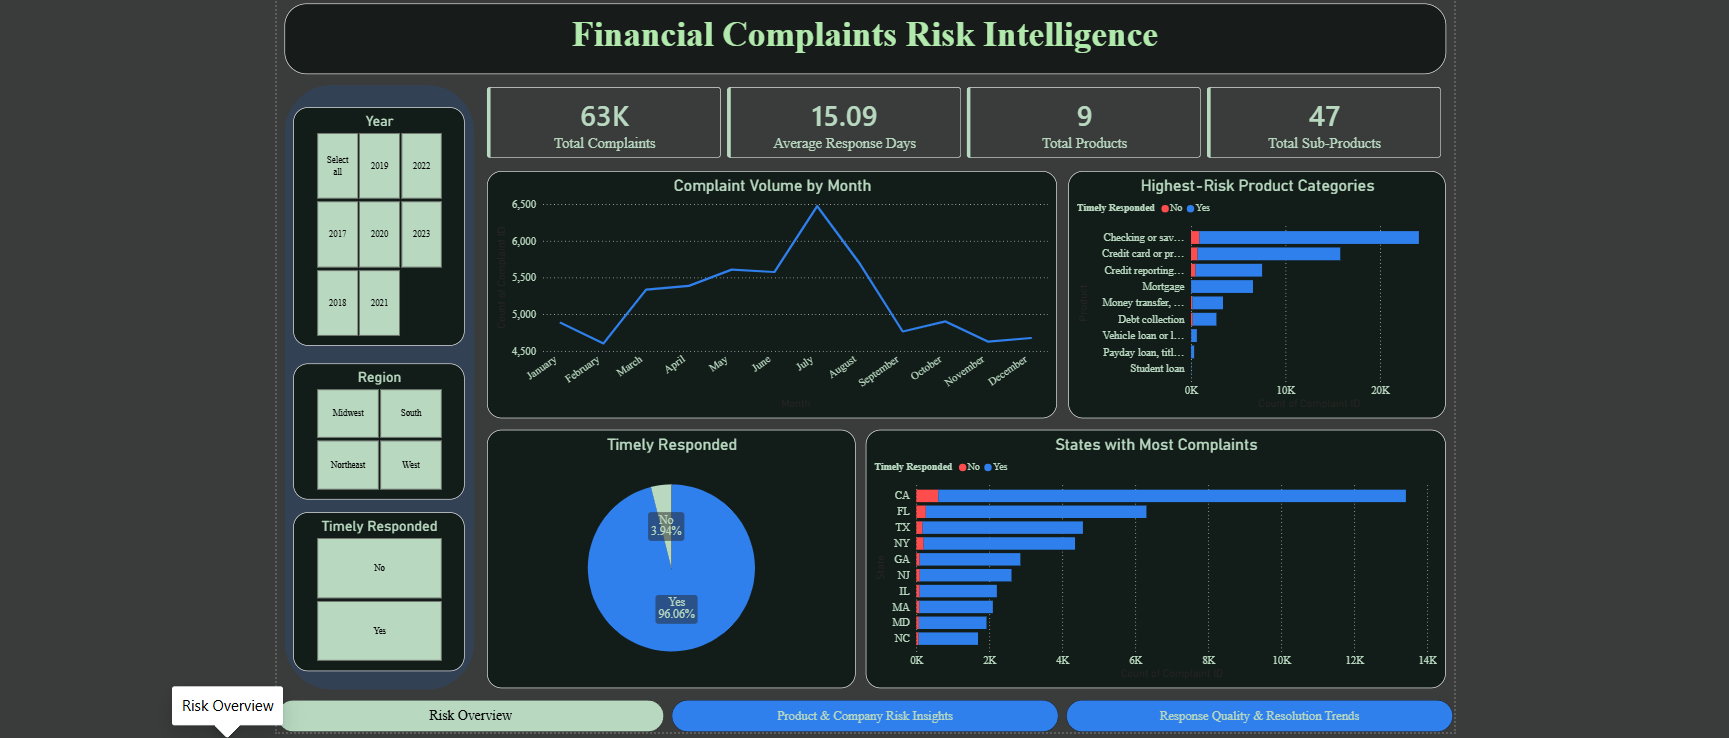

The dashboard page shown, as its layout file describes it:
{"tool":"powerbi","page":{"name":"Risk Overview","canvas":[1600,1000],"ordinal":0},"visuals":[{"type":"textbox","box":[10.3,10.3,1578,96.1],"z":0},{"type":"cardVisual","fields":{"Data":["cleaned_financial_complaints.Total Complaints","cleaned_financial_complaints.Average Response Time","cleaned_financial_complaints.Total Products","cleaned_financial_complaints.Total Sub-Products"]},"box":[267.6,106.3,1332.8,130.4],"z":1000},{"type":"shape","box":[10.2,120.6,258.2,822],"z":2000},{"type":"barChart","title":"Highest-Risk Product Categories","fields":{"Category":["cleaned_financial_complaints.Product"],"Y":["CountNonNull(cleaned_financial_complaints.Complaint ID)"],"Series":["cleaned_financial_complaints.Timely response?"]},"box":[1075.1,237.8,512.9,336.3],"z":3000},{"type":"lineChart","title":"Complaint Volume by Month","fields":{"Y":["CountNonNull(cleaned_financial_complaints.Complaint ID)"],"Category":["cleaned_financial_complaints.Date submitted.Variation.Date Hierarchy.Month"]},"box":[285.3,237.8,774.5,336.3],"z":4000},{"type":"slicer","title":"Year","fields":{"Values":["cleaned_financial_complaints.Date submitted.Variation.Date Hierarchy.Year"]},"box":[22.1,151.2,232.7,324.4],"z":5000},{"type":"pieChart","title":"Timely Responded","fields":{"Category":["cleaned_financial_complaints.Timely response?"],"Y":["CountNonNull(cleaned_financial_complaints.Complaint ID)"]},"box":[285.3,589.3,501,351.6],"z":6000},{"type":"barChart","title":"States with  Most Complaints","fields":{"Category":["cleaned_financial_complaints.State"],"Y":["CountNonNull(cleaned_financial_complaints.Complaint ID)"],"Series":["cleaned_financial_complaints.Timely response?"]},"box":[799.9,589.3,788,351.6],"z":7000},{"type":"pageNavigator","box":[0,956.2,1599.9,44.2],"z":8000},{"type":"slicer","title":"Timely Responded","fields":{"Values":["cleaned_financial_complaints.Timely response?"]},"box":[22.1,701.4,232.7,215.7],"z":9000},{"type":"slicer","title":"Region","fields":{"Values":["cleaned_financial_complaints.Census_Region"]},"box":[22.1,499.3,232.7,185.1],"z":10000}]}

Visuals, with their boxes on the page's 1600x1000 design canvas (x1, y1, x2, y2). These are canvas units, not pixel positions in the 1729x738 screenshot, which may show the page scaled, cropped or inside an application window:
textbox: pyautogui.locateOnScreen(10, 10, 1588, 106)
cardVisual - cleaned_financial_complaints.Total Complaints x cleaned_financial_complaints.Average Response Time: pyautogui.locateOnScreen(268, 106, 1600, 237)
shape: pyautogui.locateOnScreen(10, 121, 268, 943)
"Highest-Risk Product Categories" barChart: pyautogui.locateOnScreen(1075, 238, 1588, 574)
"Complaint Volume by Month" lineChart: pyautogui.locateOnScreen(285, 238, 1060, 574)
"Year" slicer: pyautogui.locateOnScreen(22, 151, 255, 476)
"Timely Responded" pieChart: pyautogui.locateOnScreen(285, 589, 786, 941)
"States with  Most Complaints" barChart: pyautogui.locateOnScreen(800, 589, 1588, 941)
pageNavigator: pyautogui.locateOnScreen(0, 956, 1600, 1000)
"Timely Responded" slicer: pyautogui.locateOnScreen(22, 701, 255, 917)
"Region" slicer: pyautogui.locateOnScreen(22, 499, 255, 684)
